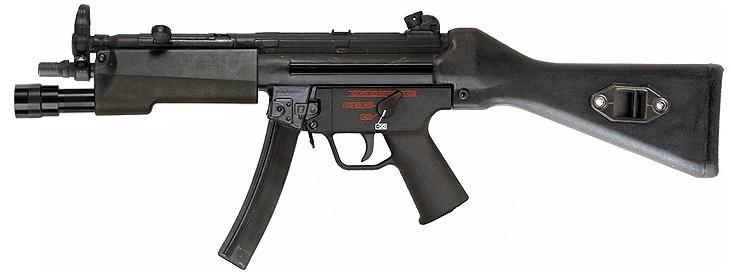blood: (3, 0, 731, 273)
